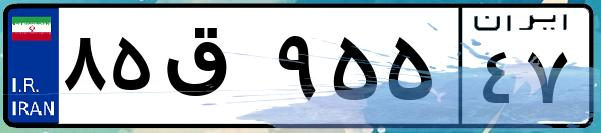4: (475, 38, 525, 113)
5: (385, 28, 445, 110), (330, 28, 385, 110), (110, 28, 158, 98)
7: (525, 38, 570, 115)
8: (57, 26, 110, 100)
9: (270, 28, 330, 110)
ق: (158, 20, 270, 120)
